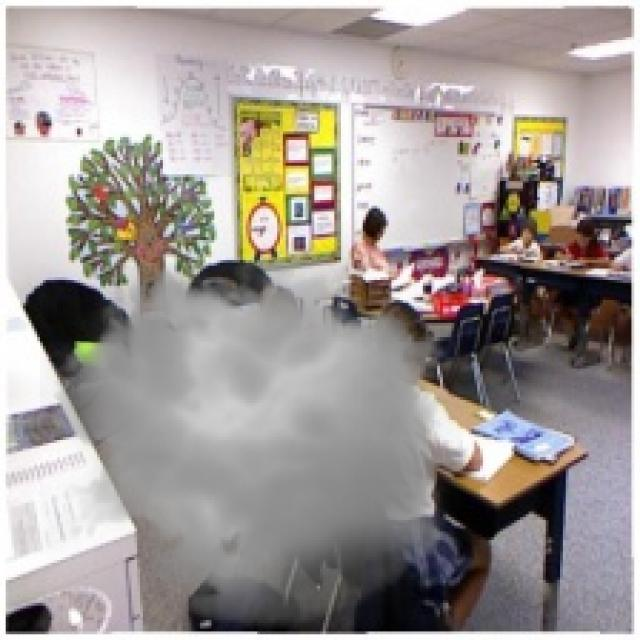smoke: (40, 246, 466, 637)
